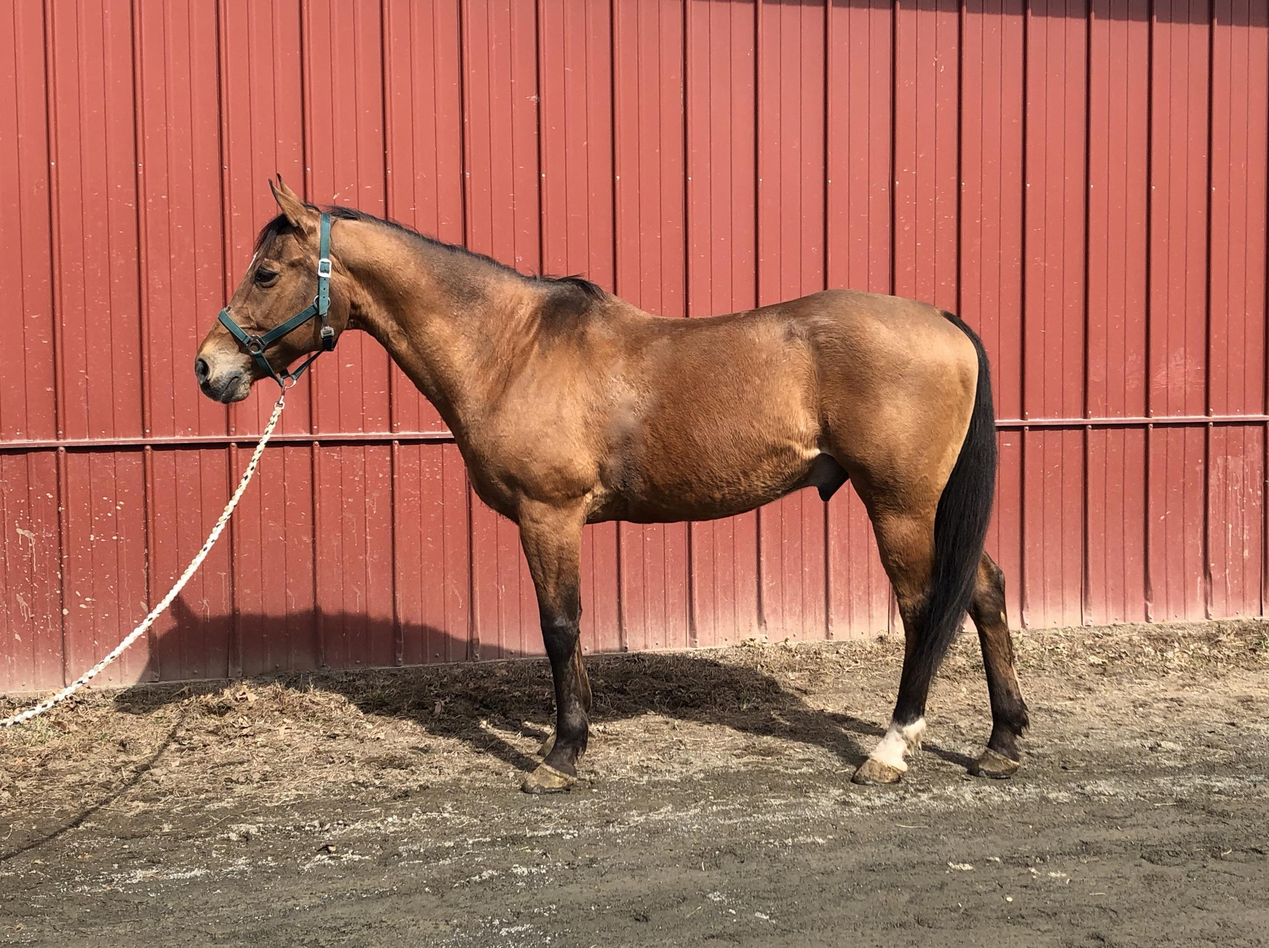horse: (186, 164, 1041, 803)
